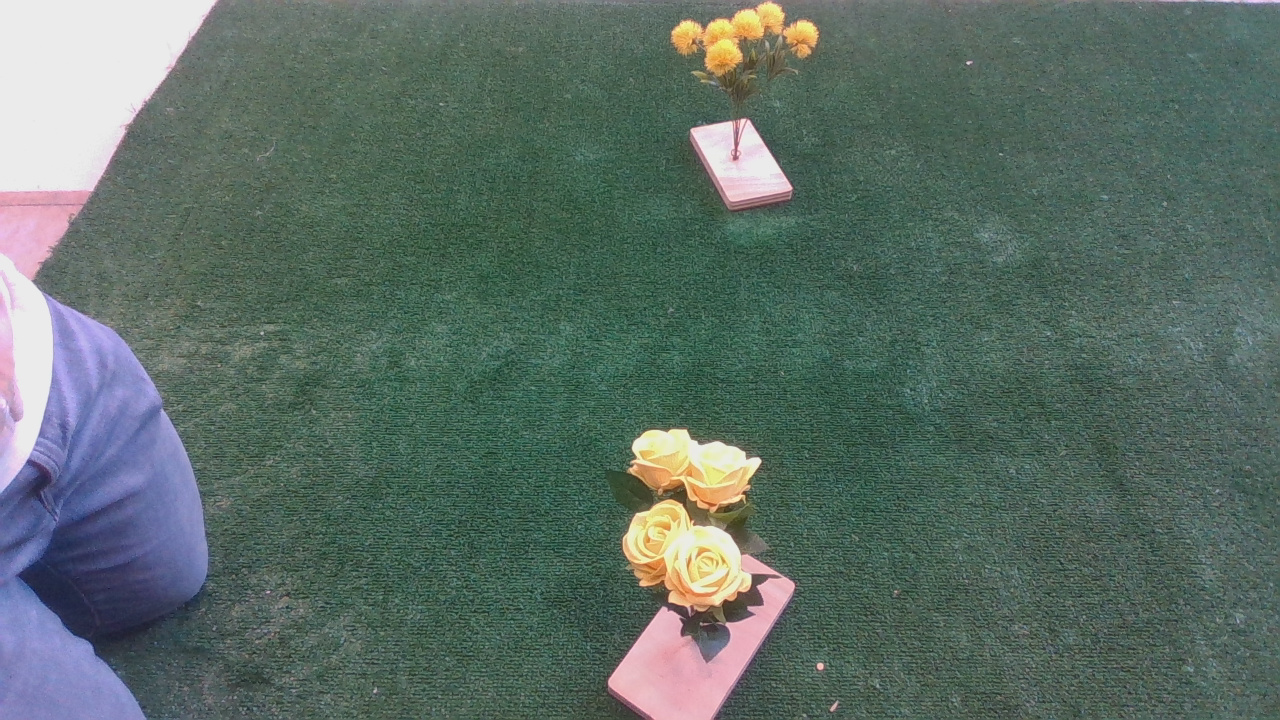dandelion: (663, 4, 836, 105)
rose: (588, 420, 800, 640)
